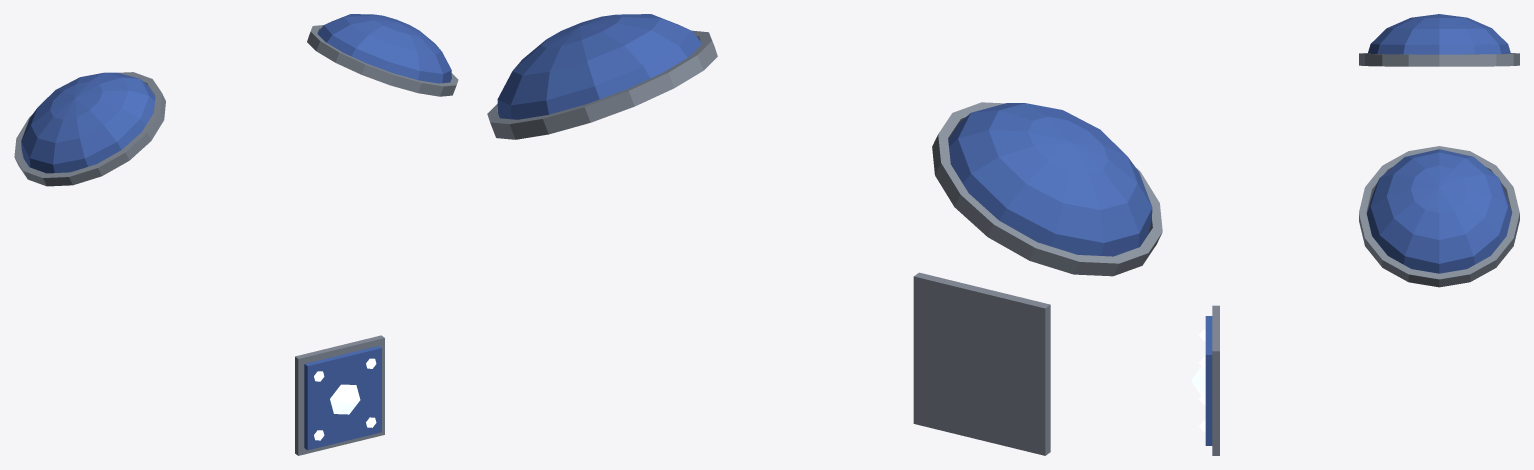
The model's file is armor_lord_chest_rare_human.glb.
3 views of the same model, side by side, from view 1: azimuth 30°, elevation 25°; view 2: azimuth 150°, elevation 25°; view 3: azimuth 270°, elevation 25° (orthographic). The views are drawn at different scales.
Parts seen in each view (by area): view 1: armor_lord_chest_rare_human__clavicle_r, armor_lord_chest_rare_human__spine_03, armor_lord_chest_rare_human__clavicle_l; view 2: armor_lord_chest_rare_human__clavicle_r, armor_lord_chest_rare_human__spine_03, armor_lord_chest_rare_human__clavicle_l; view 3: armor_lord_chest_rare_human__clavicle_l, armor_lord_chest_rare_human__clavicle_r, armor_lord_chest_rare_human__spine_03.
Boxes of the visible parts, left/top/right/bottom form: armor_lord_chest_rare_human__clavicle_r: left=14, top=72, right=165, bottom=186; armor_lord_chest_rare_human__spine_03: left=295, top=335, right=384, bottom=455; armor_lord_chest_rare_human__clavicle_l: left=307, top=14, right=458, bottom=96; armor_lord_chest_rare_human__clavicle_r: left=932, top=102, right=1162, bottom=276; armor_lord_chest_rare_human__spine_03: left=913, top=272, right=1050, bottom=455; armor_lord_chest_rare_human__clavicle_l: left=487, top=14, right=717, bottom=139; armor_lord_chest_rare_human__clavicle_l: left=1359, top=146, right=1519, bottom=287; armor_lord_chest_rare_human__clavicle_r: left=1359, top=14, right=1519, bottom=66; armor_lord_chest_rare_human__spine_03: left=1191, top=305, right=1219, bottom=455.
Size of the model in its own units: 69.81 by 49.99 by 43.29.
